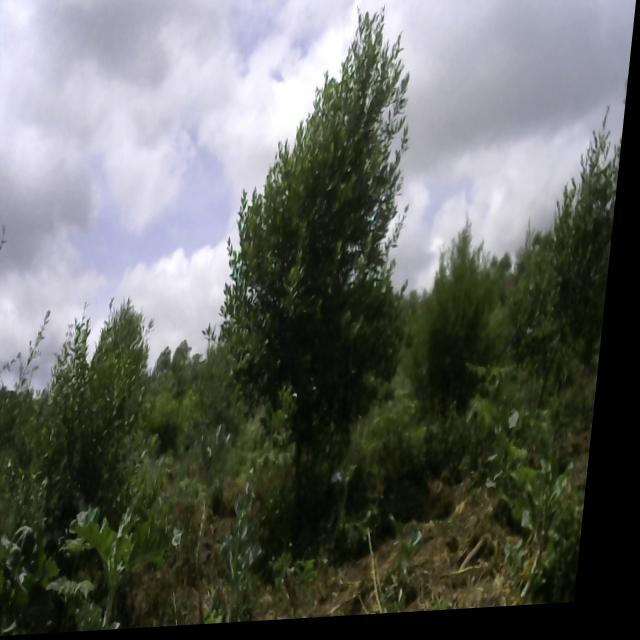Salix alba: (203, 9, 433, 507), (37, 304, 165, 503), (547, 99, 629, 369)
cedrus: (420, 228, 502, 420)
